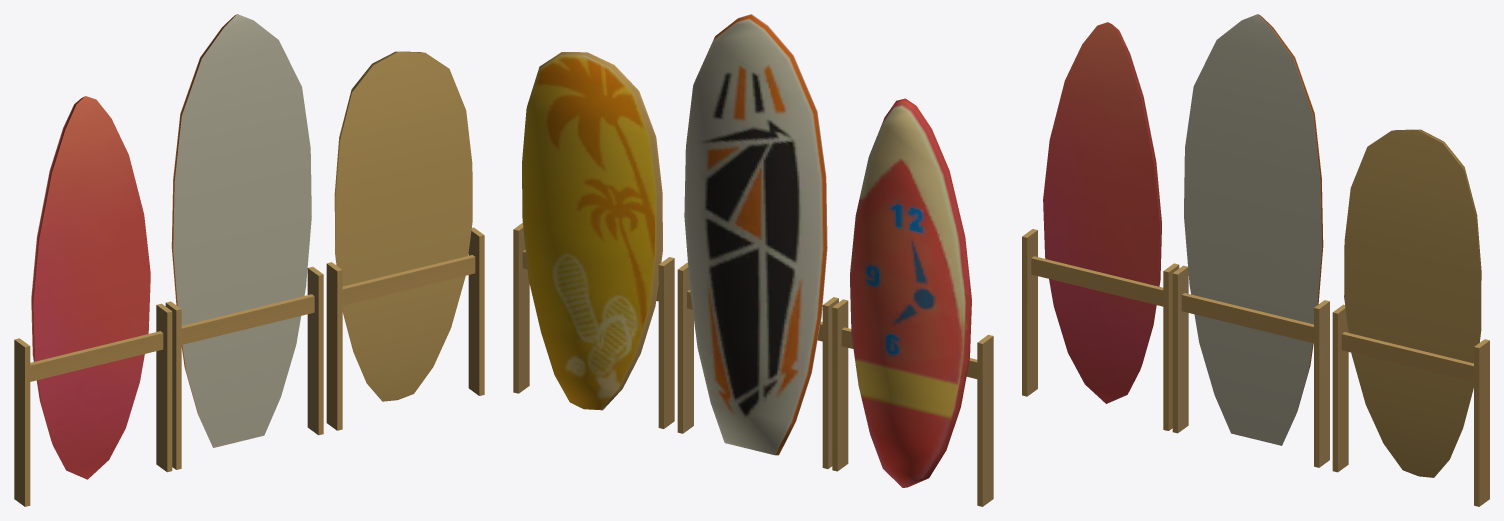
The model's file is furn_se2021_surfboard_001.gltf.
The picture shows the model from 3 angles, left to right: view 1: azimuth 30°, elevation 25°; view 2: azimuth 150°, elevation 25°; view 3: azimuth 330°, elevation 25°; orthographic projection. The views are drawn at different scales.
Parts seen in each view (by area): view 1: se2021_surfboard_001; view 2: se2021_surfboard_001; view 3: se2021_surfboard_001.
Part boxes in pixels (x1,y1,x2,y2): se2021_surfboard_001: (14,14,484,506); se2021_surfboard_001: (513,14,993,506); se2021_surfboard_001: (1022,14,1489,506).
Bounding box in the file's own units: 1.16 × 1.03 × 0.0744.
Materials: 1 (1 with a texture image).
